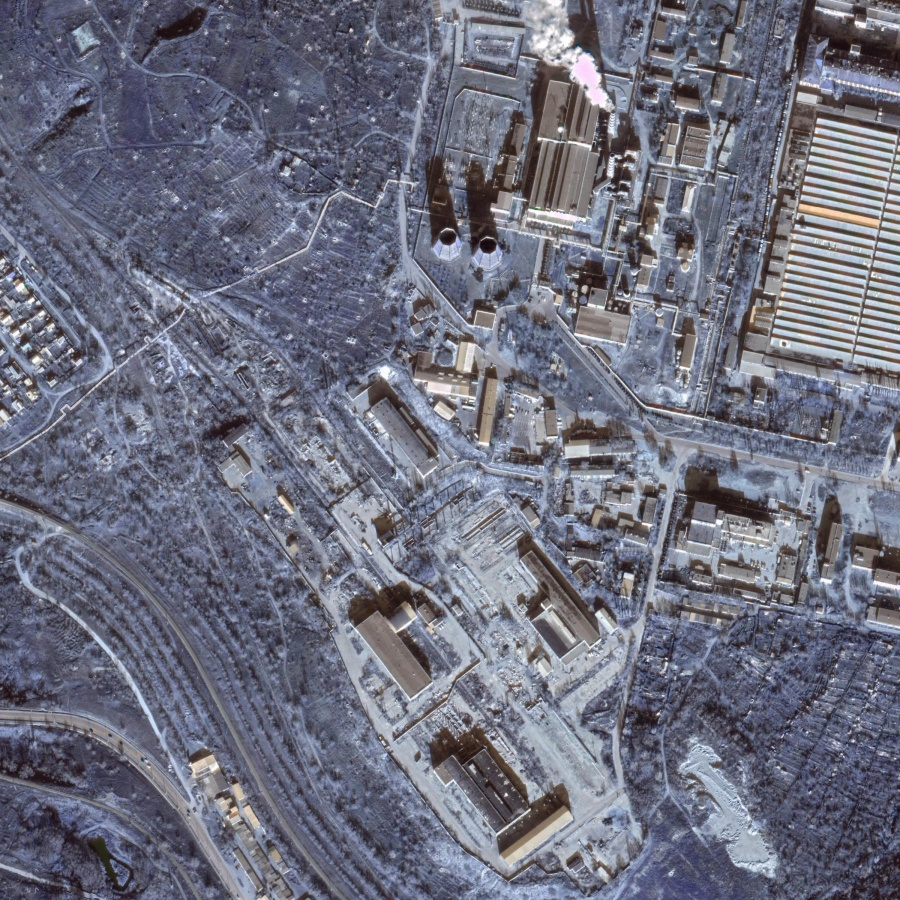PowerPlant: (419, 21, 642, 282)
